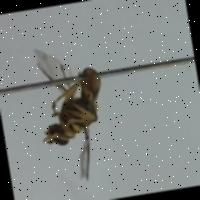Oriental-fruit-fly: (18, 31, 126, 200)
